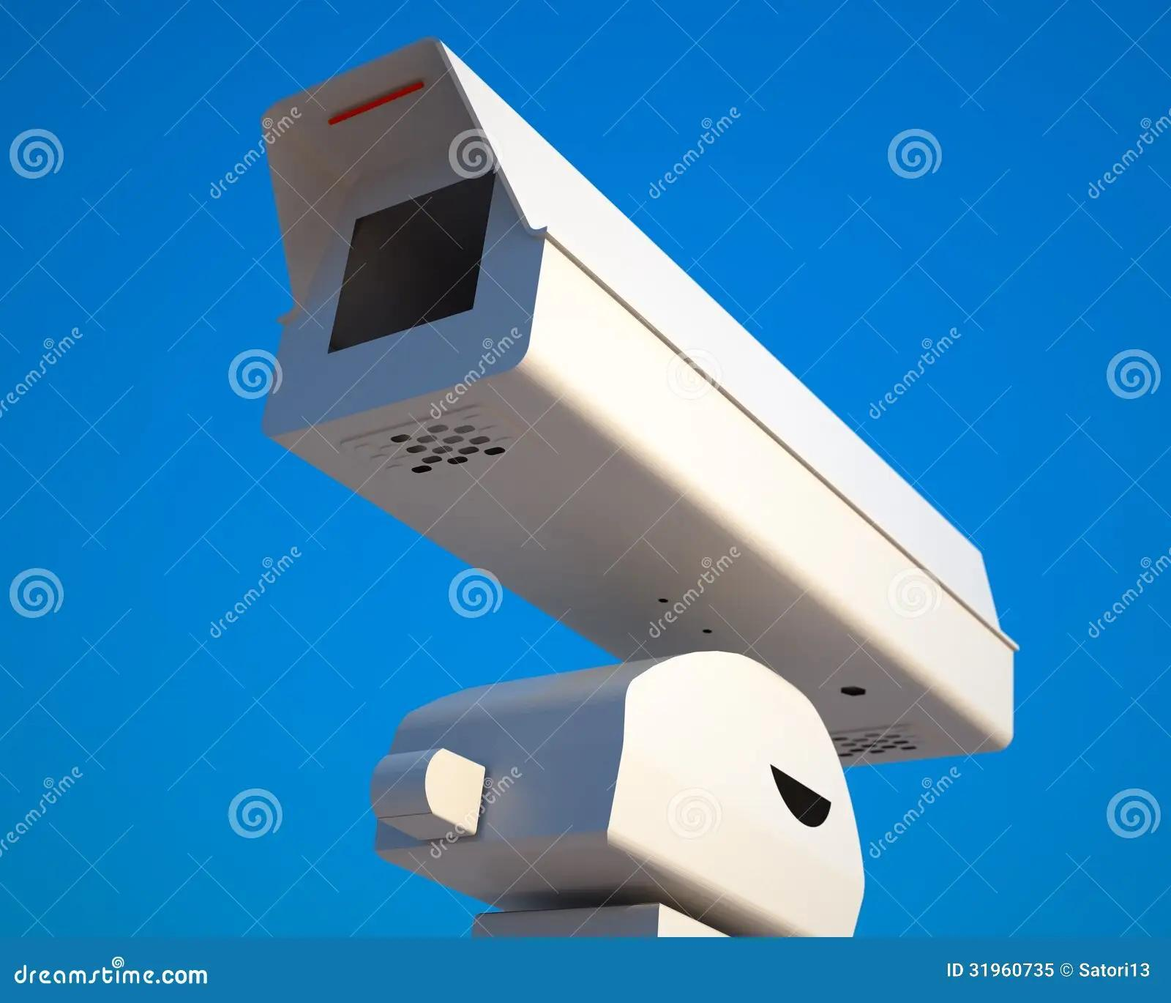Monitor: (256, 35, 1020, 772)
